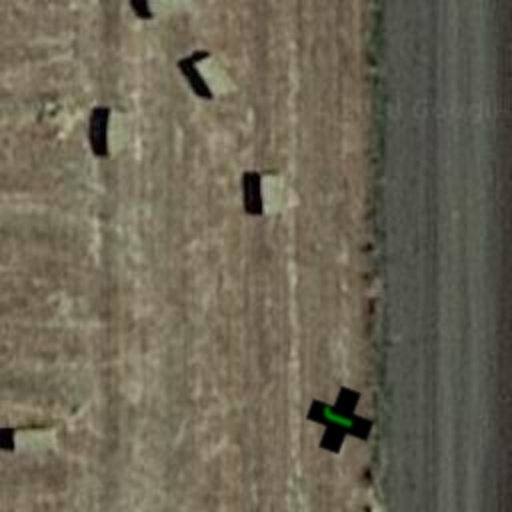cross: (296, 376, 384, 464)
